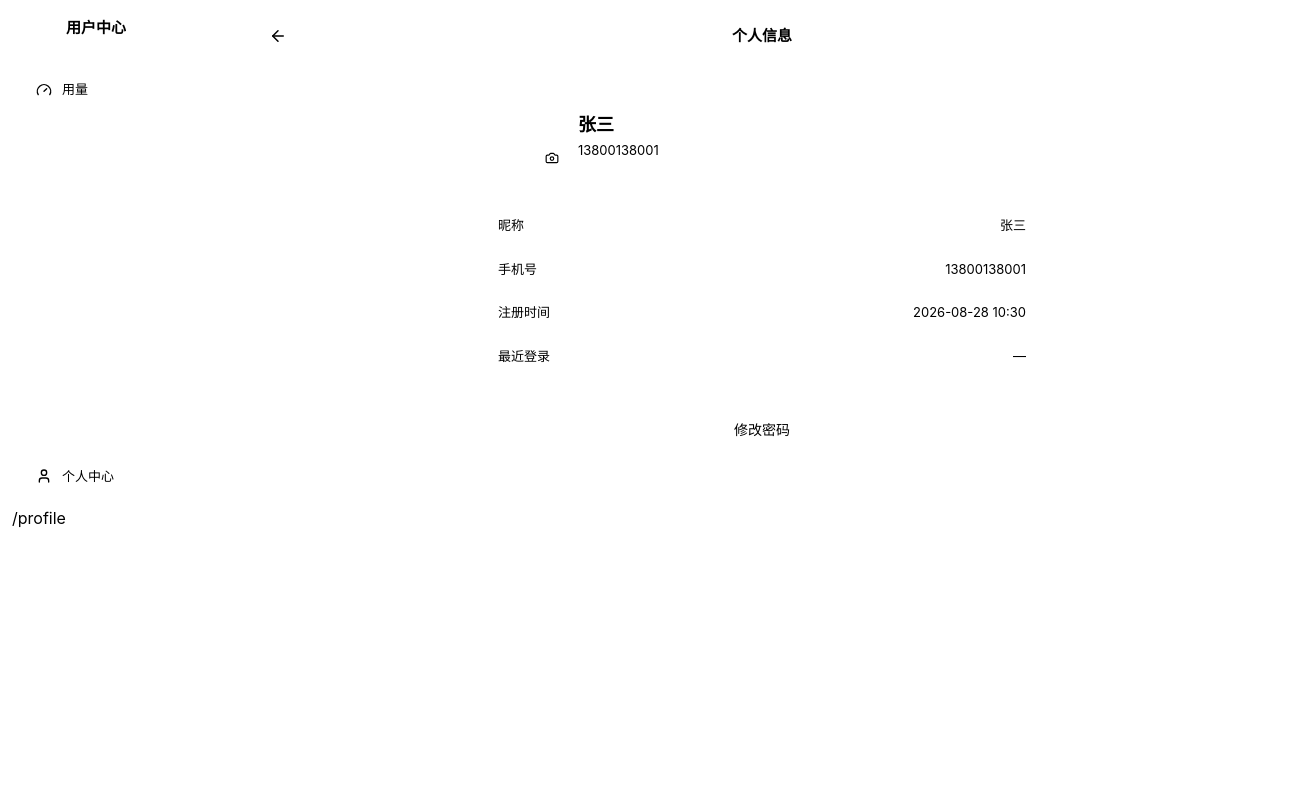
Test: AccountLayout 账号页布局（个人中心 / 用量独立路由） › 点击「用量」跳转 /usage 展示用量信息，再跳回个人中心
Click the link "用量": (62, 89) [36,81,88,98]
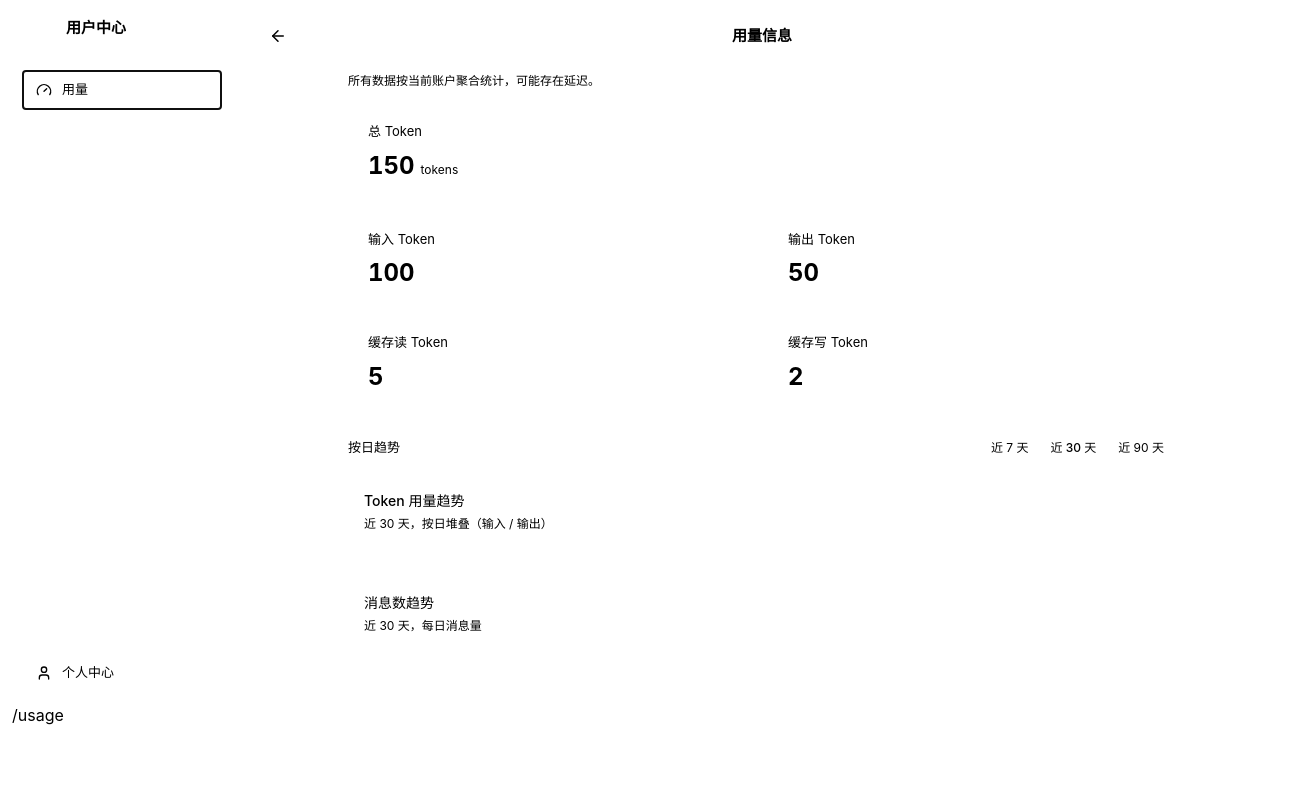
Now the heading "用量信息" is shown, box [732,26,792,45]
Now the text "总 Token" is shown, box [368,123,422,139]
Click the link "个人中心": (75, 672) [36,664,114,681]
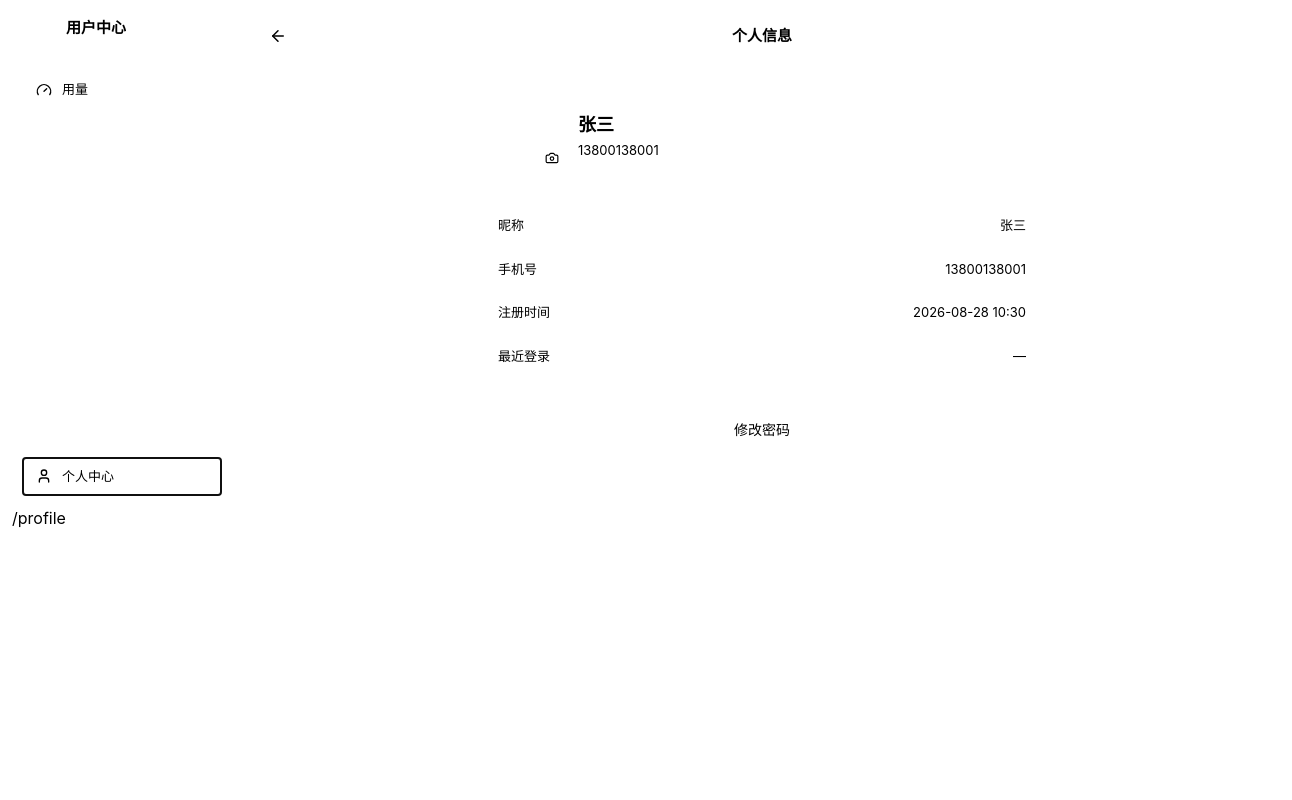
Now the heading "个人信息" is shown, box [732,26,792,45]
Now the button "修改密码" is shown, box [498,414,1026,446]
